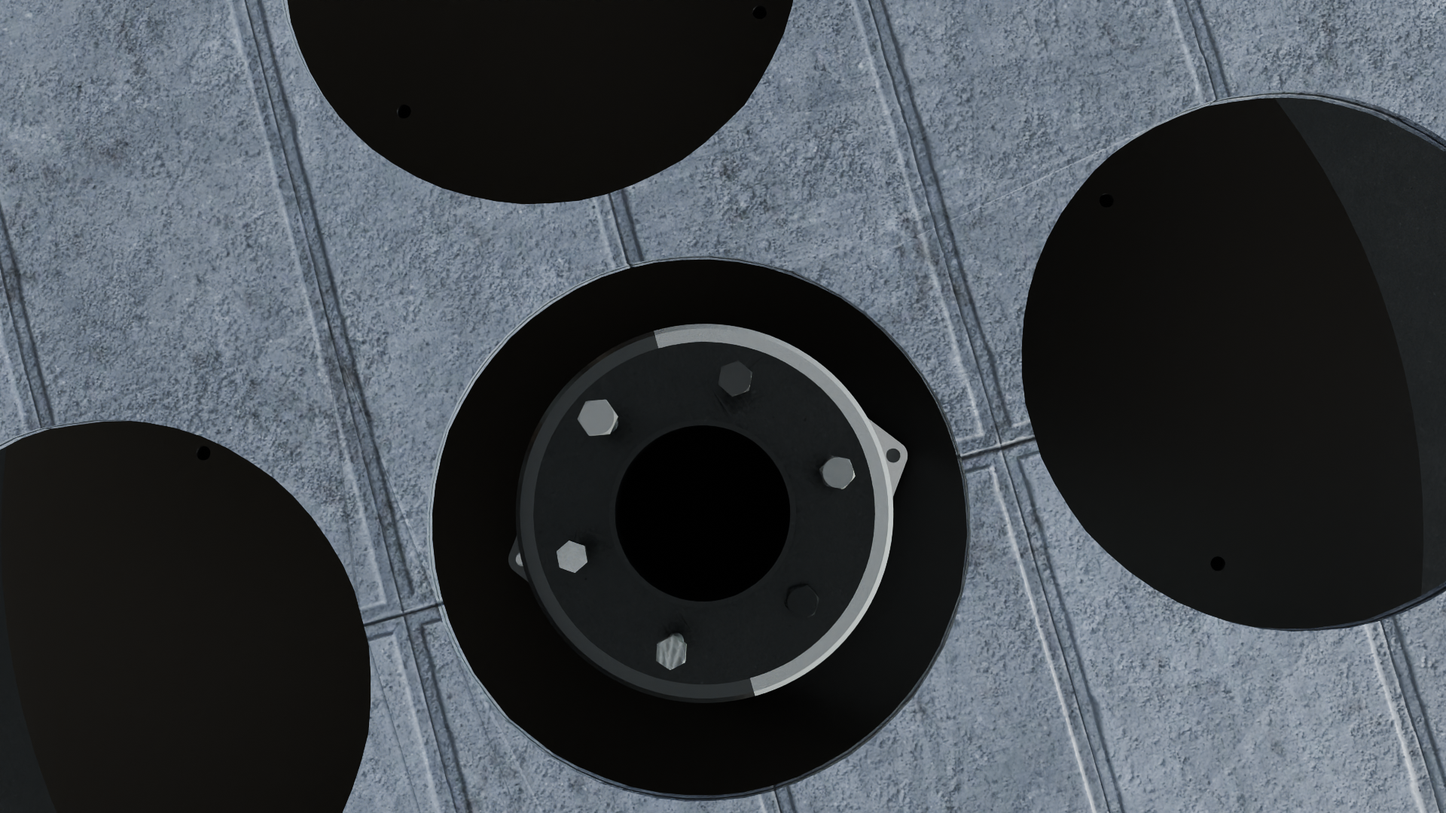bolt: (578, 400, 617, 435), (718, 361, 752, 397), (820, 455, 855, 489), (786, 586, 819, 619), (656, 636, 686, 670), (557, 540, 587, 573)
